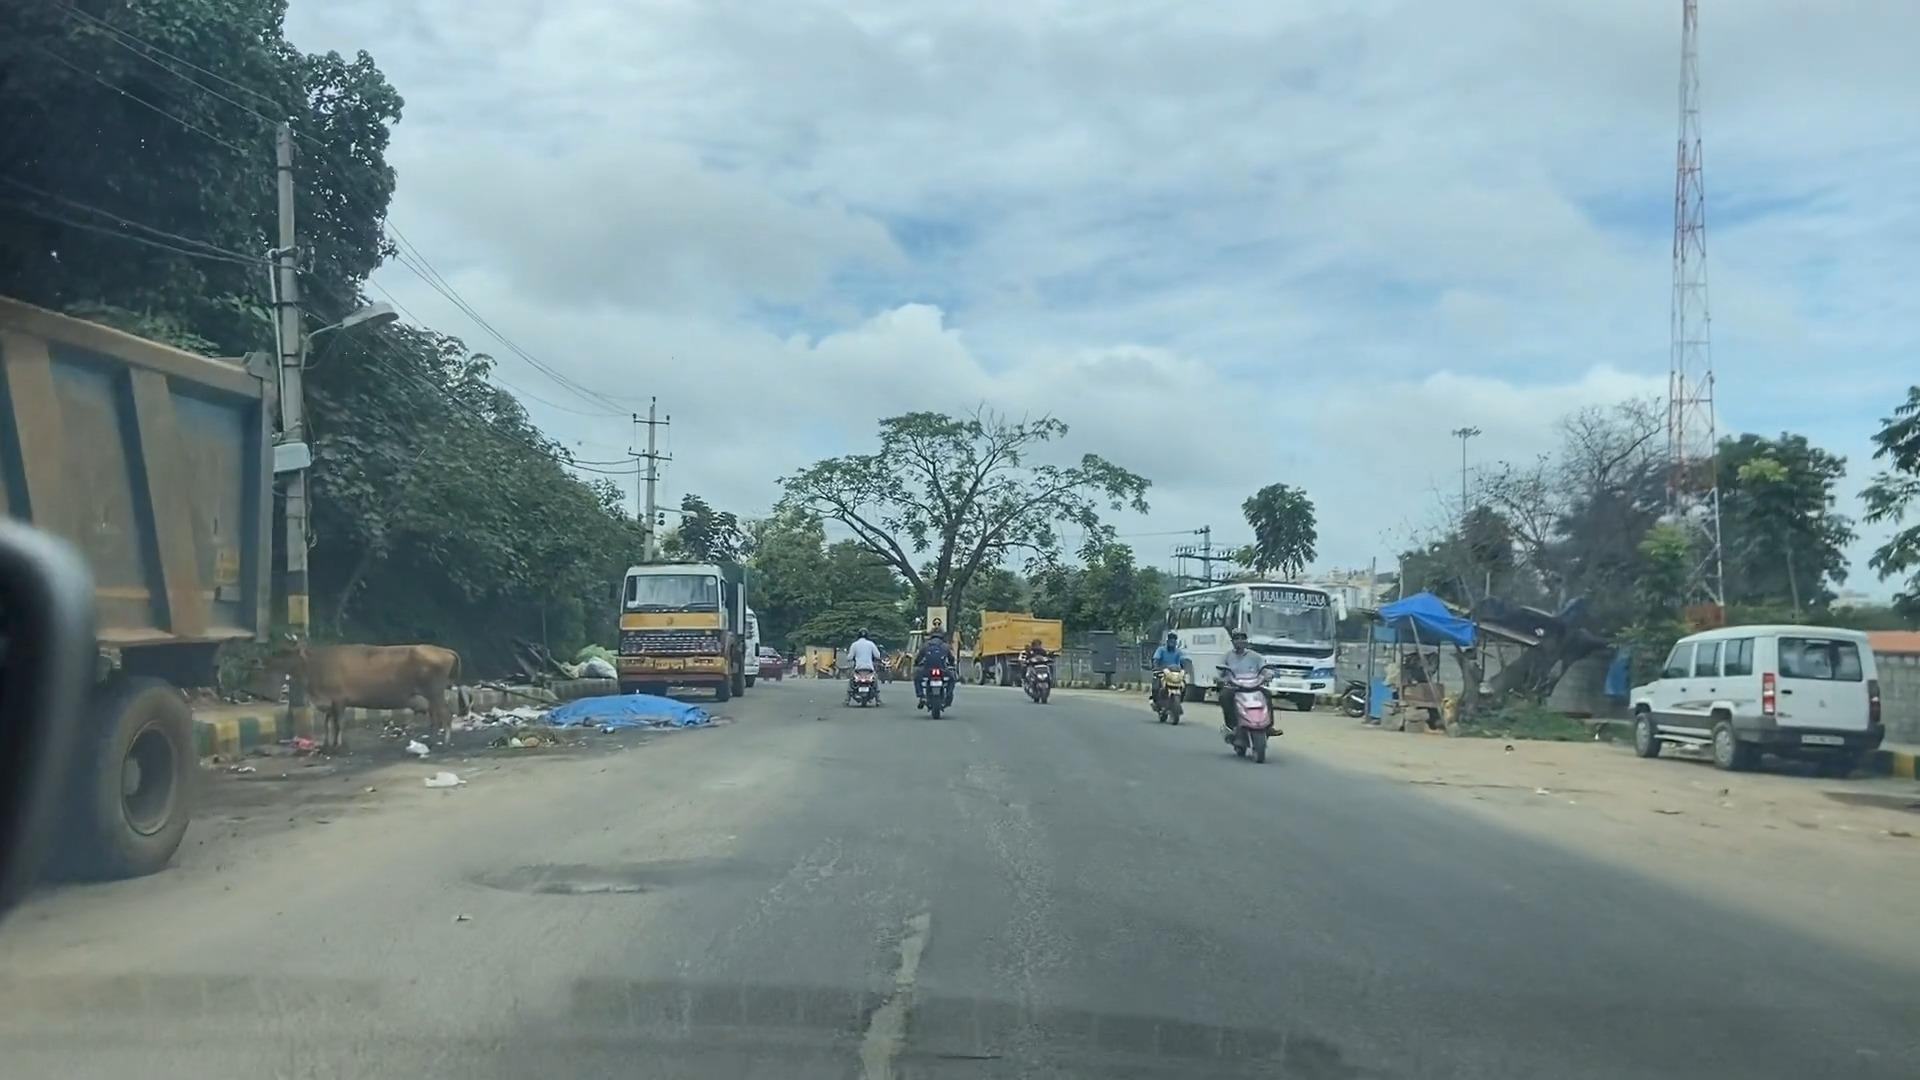HMV: (0, 263, 274, 920), (1133, 551, 1337, 724), (614, 518, 751, 703), (940, 590, 1047, 707)
LMV: (1609, 614, 1911, 809), (883, 549, 980, 772), (1207, 619, 1288, 774), (812, 601, 884, 735), (1124, 627, 1200, 741), (1011, 634, 1054, 713)
RoadDamages: (456, 804, 708, 934), (854, 844, 961, 1080)
